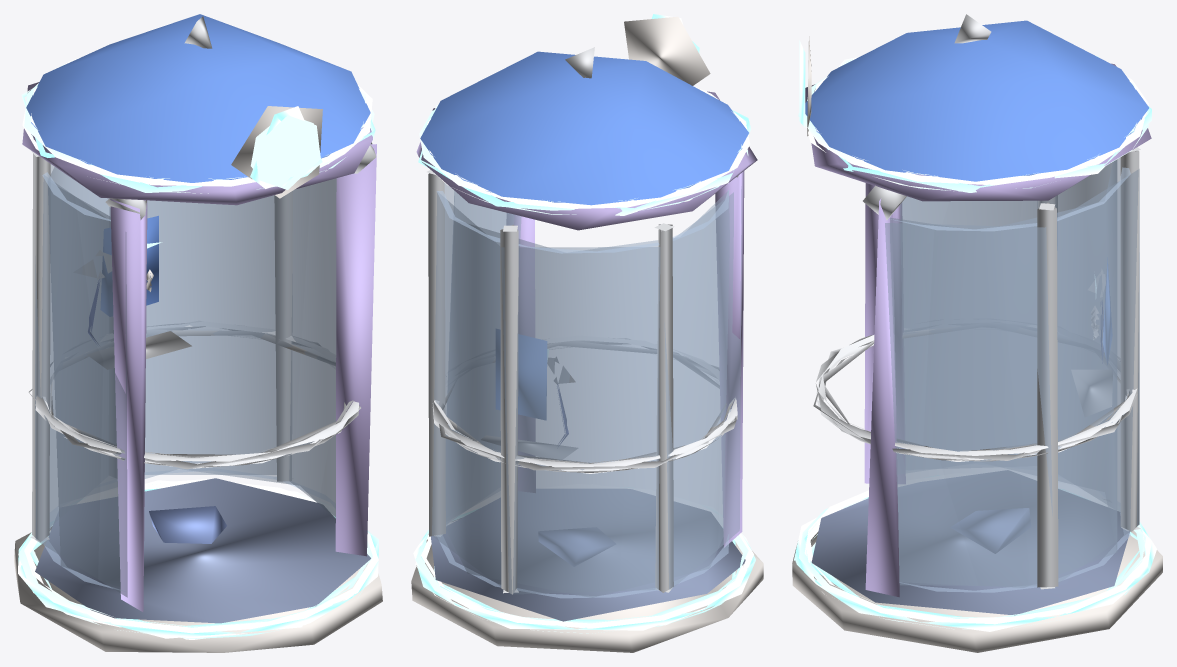
The model's file is lod_phone_booth_capsule.glb.
The picture shows the model from 3 angles, left to right: view 1: azimuth 30°, elevation 25°; view 2: azimuth 150°, elevation 25°; view 3: azimuth 270°, elevation 25°; orthographic projection. The views are drawn at different scales.
Visible parts, largest first — view 1: phone_booth_capsule; view 2: phone_booth_capsule; view 3: phone_booth_capsule.
Part boxes in pixels (x1,y1,x2,y2): phone_booth_capsule: (14, 14, 382, 652); phone_booth_capsule: (411, 14, 763, 652); phone_booth_capsule: (792, 14, 1162, 652).
Bounding box in the file's own units: 1.93 × 3.16 × 1.91.
